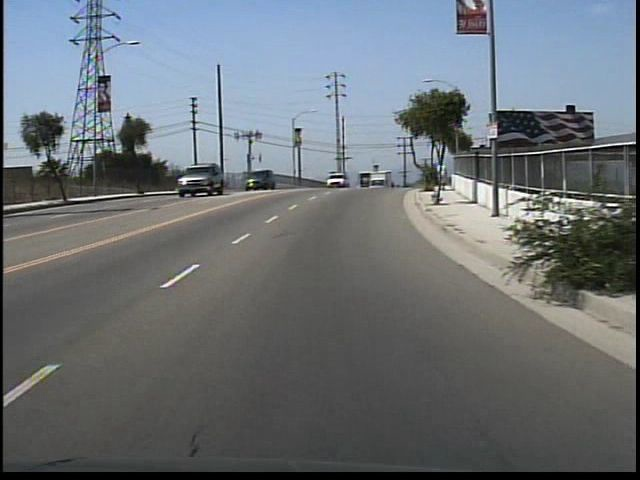person: (435, 160, 450, 193)
